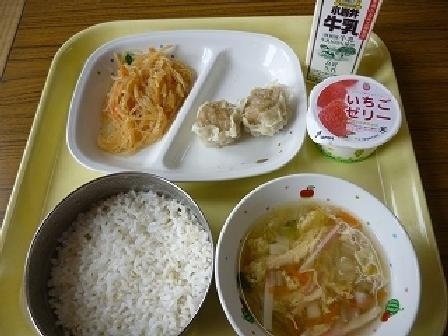Cup desserts: (300, 72, 410, 161)
Milk: (300, 0, 394, 79)
Rice: (27, 173, 212, 328)
Soups: (218, 183, 421, 329)
manty: (196, 78, 289, 151)
salad with sauce: (77, 45, 193, 155)
